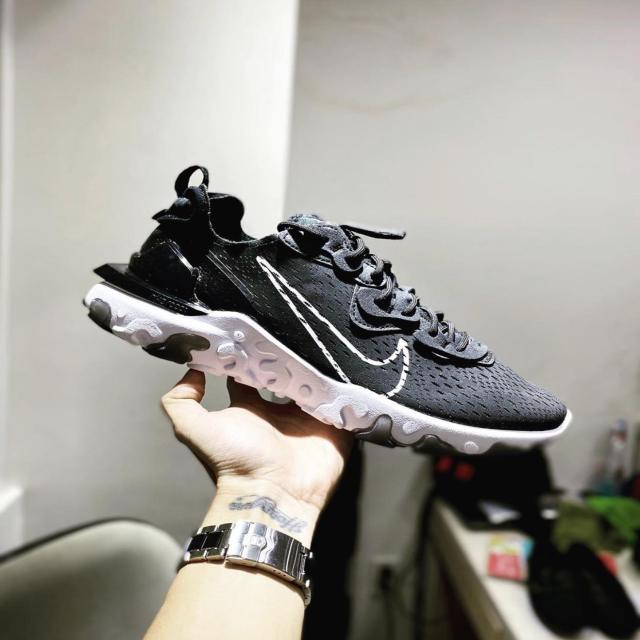shoe: (80, 165, 575, 466)
